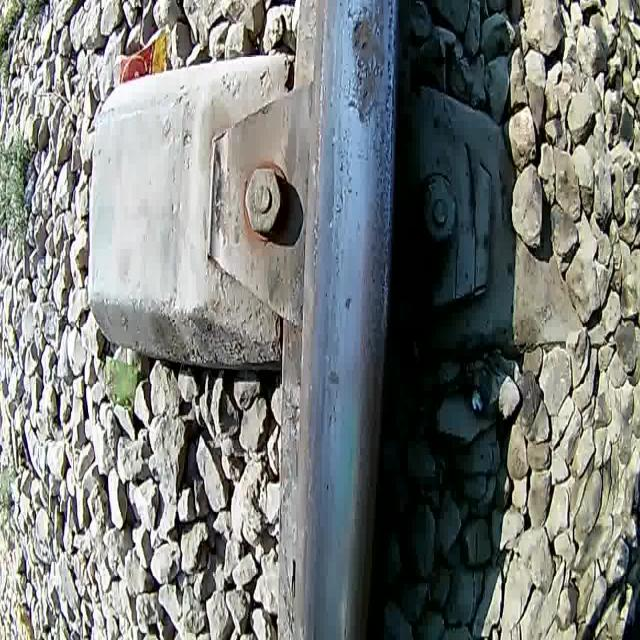Spallings: (343, 54, 386, 104), (346, 4, 385, 52)
Squats: (337, 0, 390, 134)
